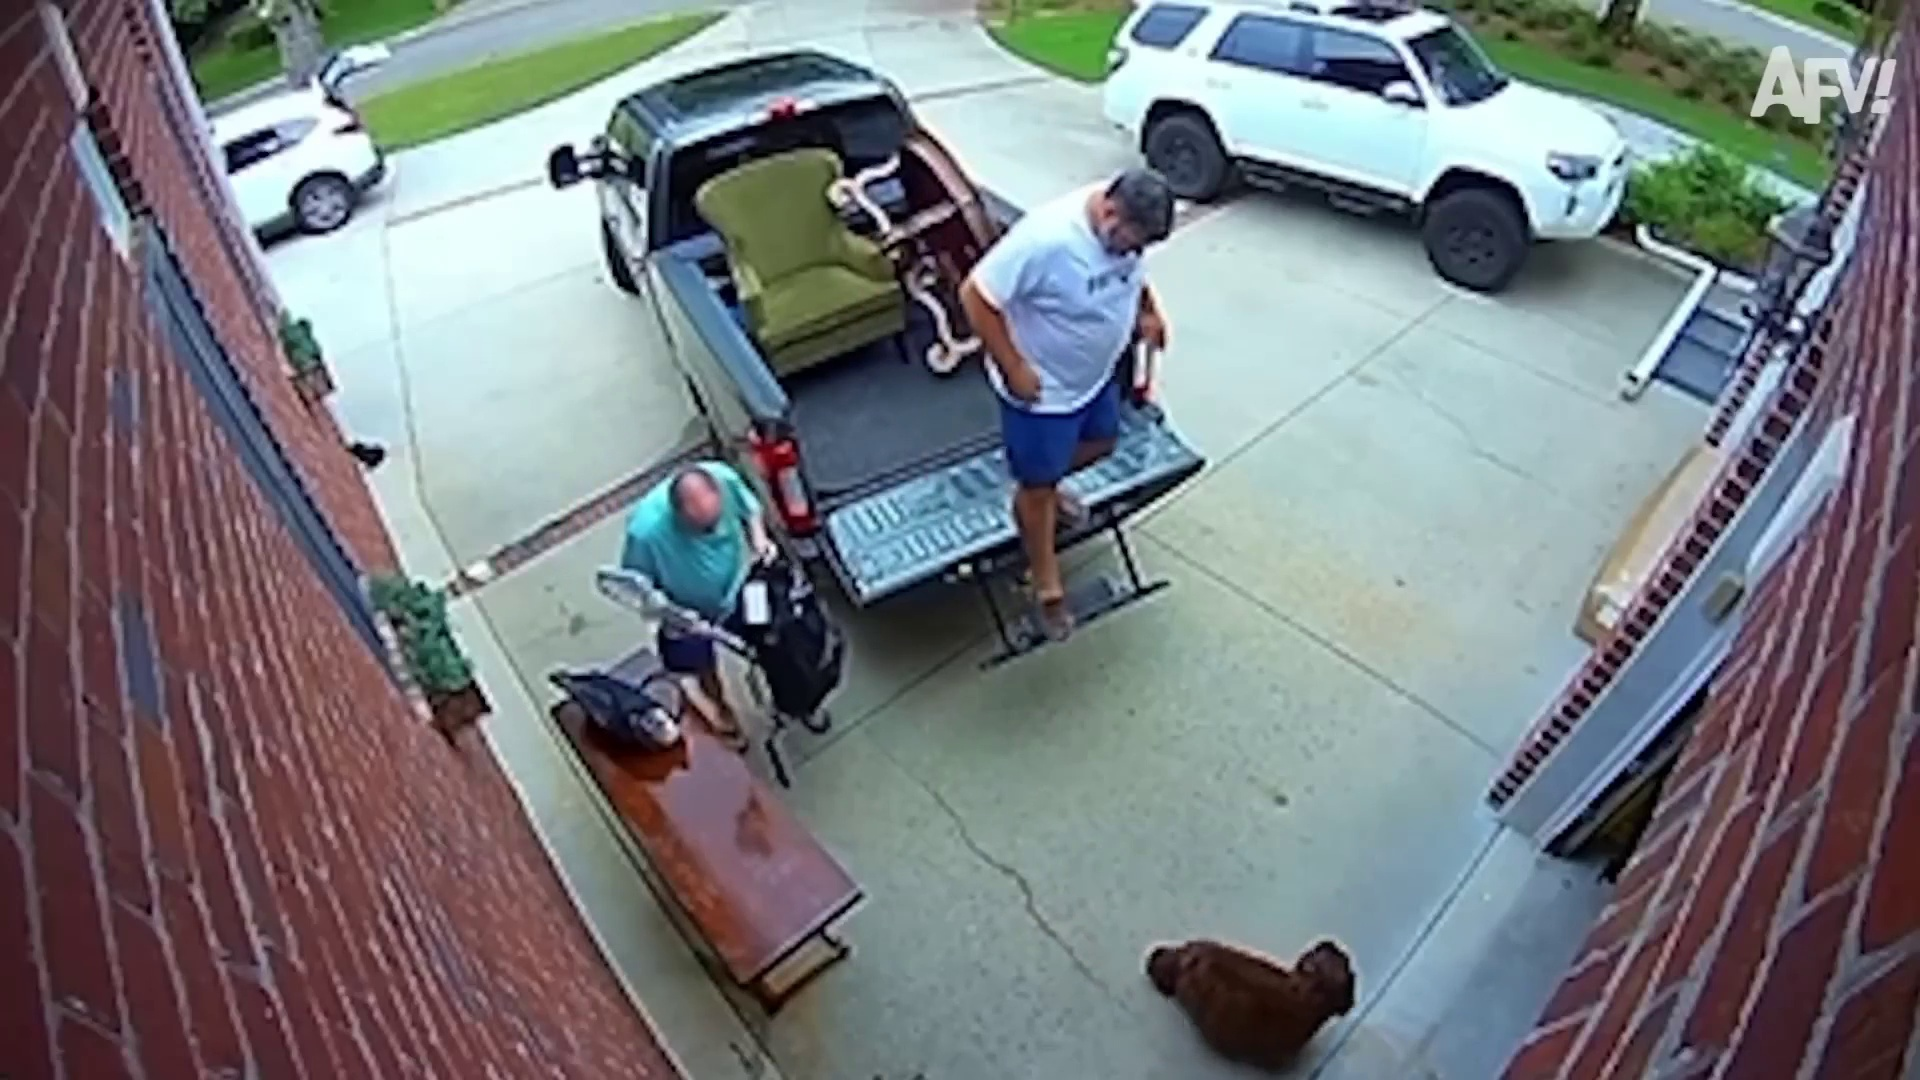person: (965, 170, 1194, 634), (599, 423, 829, 767)
